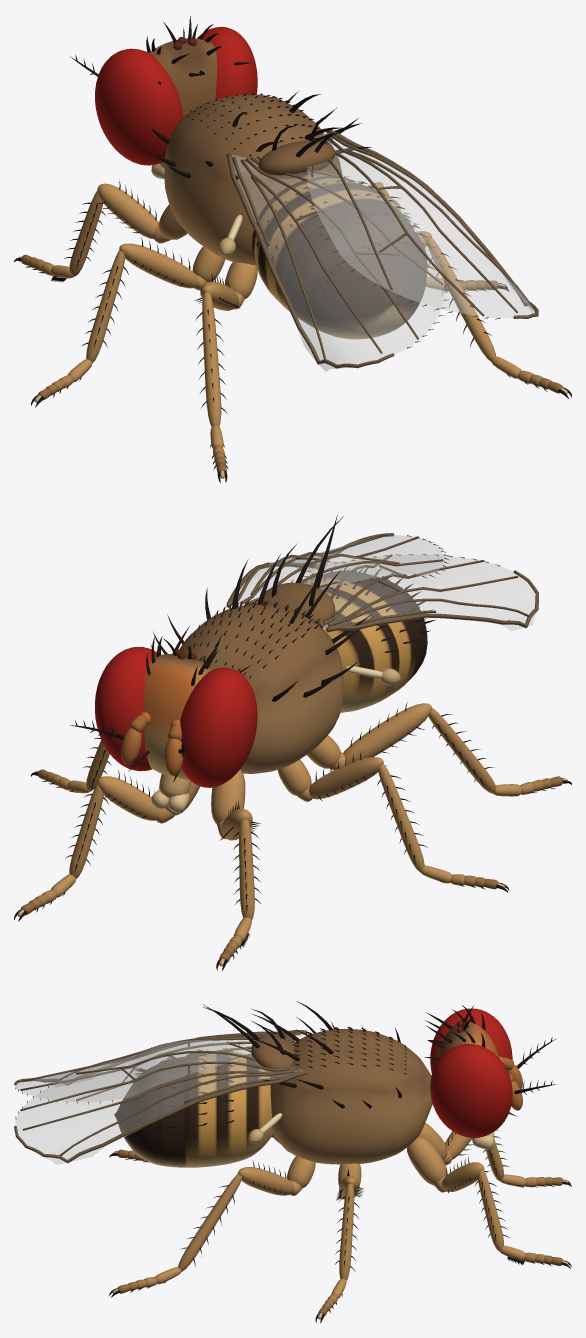
File: drosophila_male.glb
3 views of the same model, one above another, from view 1: azimuth 30°, elevation 25°; view 2: azimuth 150°, elevation 25°; view 3: azimuth 270°, elevation 25° (orthographic). The views are drawn at different scales.
Visible parts, largest first — view 1: body, wing_L, wing_R, head, leg_front_L; view 2: body, head, wing_L, wing_R, leg_front_R, leg_front_L; view 3: body, wing_R, head, wing_L, leg_front_R, leg_front_L.
Boxes of the visible parts, bbox=[...] form: body: bbox=[31, 91, 571, 482]; wing_L: bbox=[226, 153, 449, 371]; wing_R: bbox=[302, 130, 538, 319]; head: bbox=[70, 16, 257, 179]; leg_front_L: bbox=[14, 181, 187, 282]; body: bbox=[31, 515, 571, 892]; head: bbox=[70, 626, 257, 813]; wing_L: bbox=[304, 554, 538, 632]; wing_R: bbox=[226, 533, 449, 607]; leg_front_R: bbox=[14, 769, 200, 921]; leg_front_L: bbox=[211, 769, 261, 970]; body: bbox=[109, 1001, 432, 1323]; wing_R: bbox=[14, 1039, 307, 1164]; head: bbox=[424, 1005, 557, 1149]; wing_L: bbox=[14, 1029, 307, 1104]; leg_front_R: bbox=[407, 1137, 571, 1268]; leg_front_L: bbox=[418, 1123, 571, 1187].
Bounding box in the file's own units: 0.2721 × 0.1465 × 0.3328.
